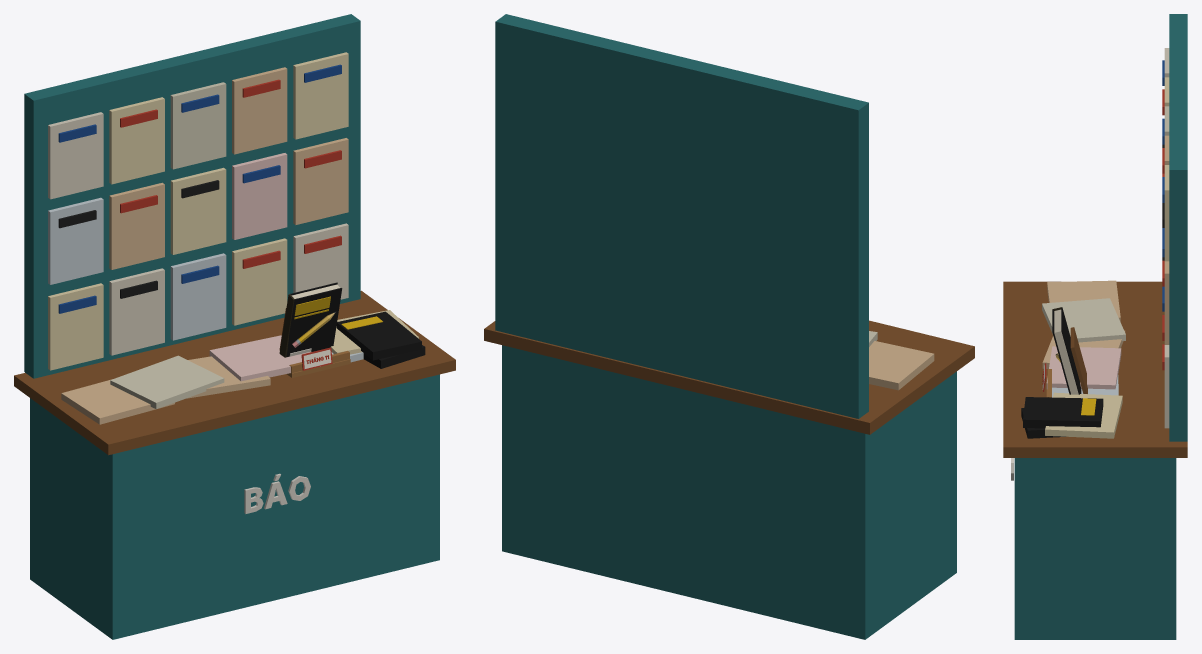
Rendered from sap_bao.glb.
The picture shows the model from 3 angles, left to right: view 1: azimuth 30°, elevation 25°; view 2: azimuth 150°, elevation 25°; view 3: azimuth 270°, elevation 25°; orthographic projection. The views are drawn at different scales.
Parts seen in each view (by area): view 1: sap_bao; view 2: sap_bao; view 3: sap_bao.
Boxes of the visible parts, x1=… form: sap_bao: x1=14, y1=14, x2=455, y2=639; sap_bao: x1=484, y1=14, x2=974, y2=639; sap_bao: x1=1003, y1=14, x2=1187, y2=639.
Bounding box in the file's own units: 1.7 × 2.25 × 0.8.
